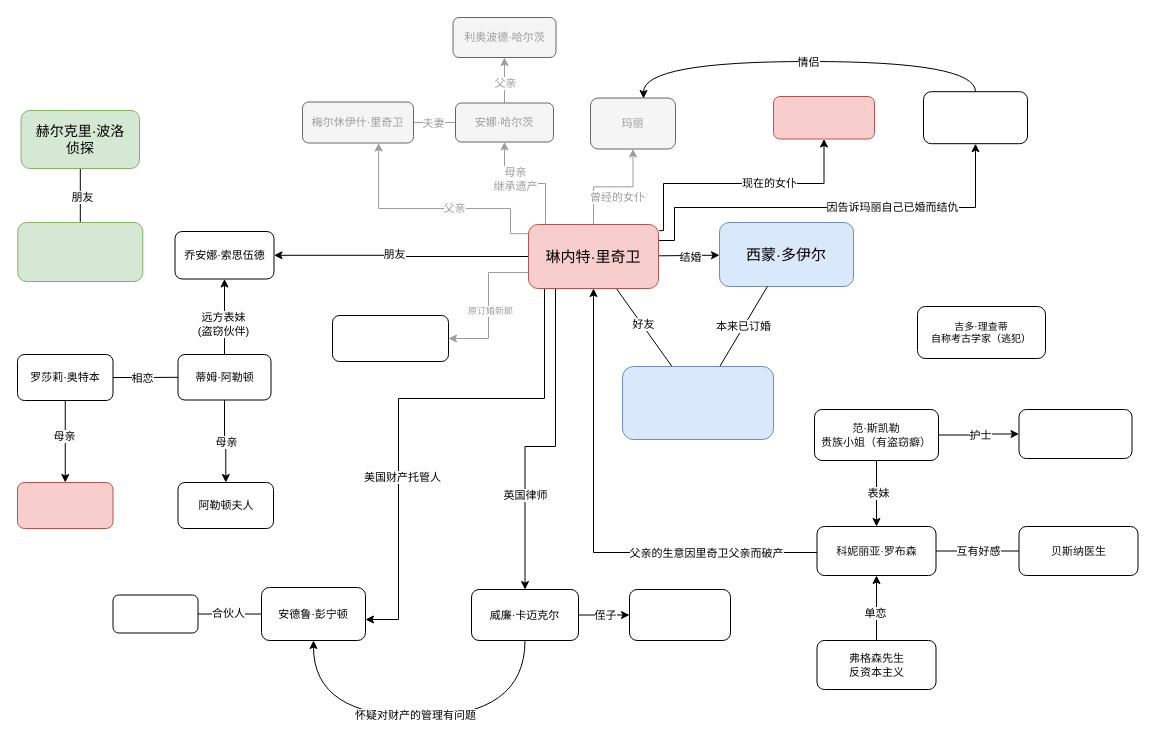
This 1156x739 diagram has some shape labels left out. The centre of each missing label's shape, as x and y in pixels:
"吉姆·范索普 (詹姆斯)" belongs at point (679, 614).
"奥特本夫人 作家（嗜酒）" belongs at point (64, 505).
"弗利特伍德 船机械师" belongs at point (975, 117).
"杰奎琳.德·贝尔福特" belongs at point (698, 403).
"查尔斯·温德尔沙姆" belongs at point (390, 338).
"瑞斯上校 因追捕逃犯而上船" belongs at point (80, 252).
"罗克福德" belongs at point (155, 613).
"路易丝·布尔热" belongs at point (823, 117).
"鲍尔斯小姐" belongs at point (1075, 433).
